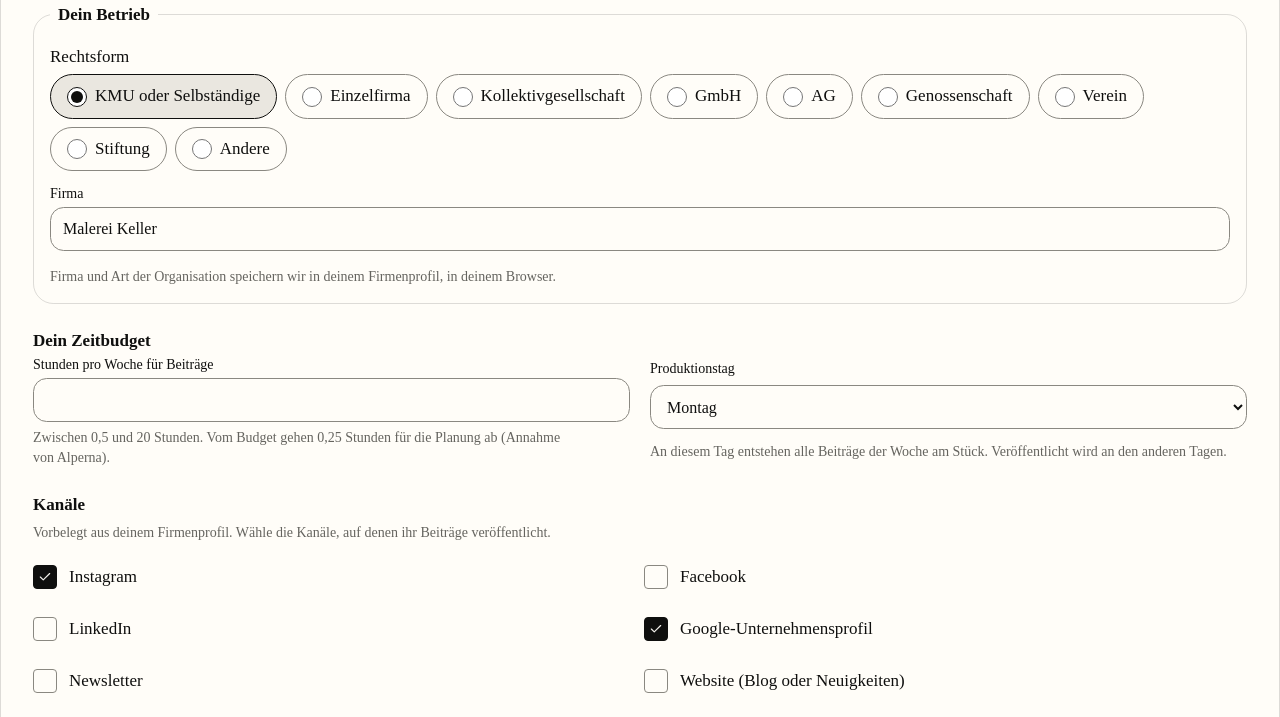
it: posting-plan: Werkzeug im Browser › verlangt mindestens einen Kanal
This screenshot has width=1280, height=717.
(page scrolled)
In the number field labelled "Stunden pro Woche für Beiträge": (332, 400) [33,378,630,422], type "4"
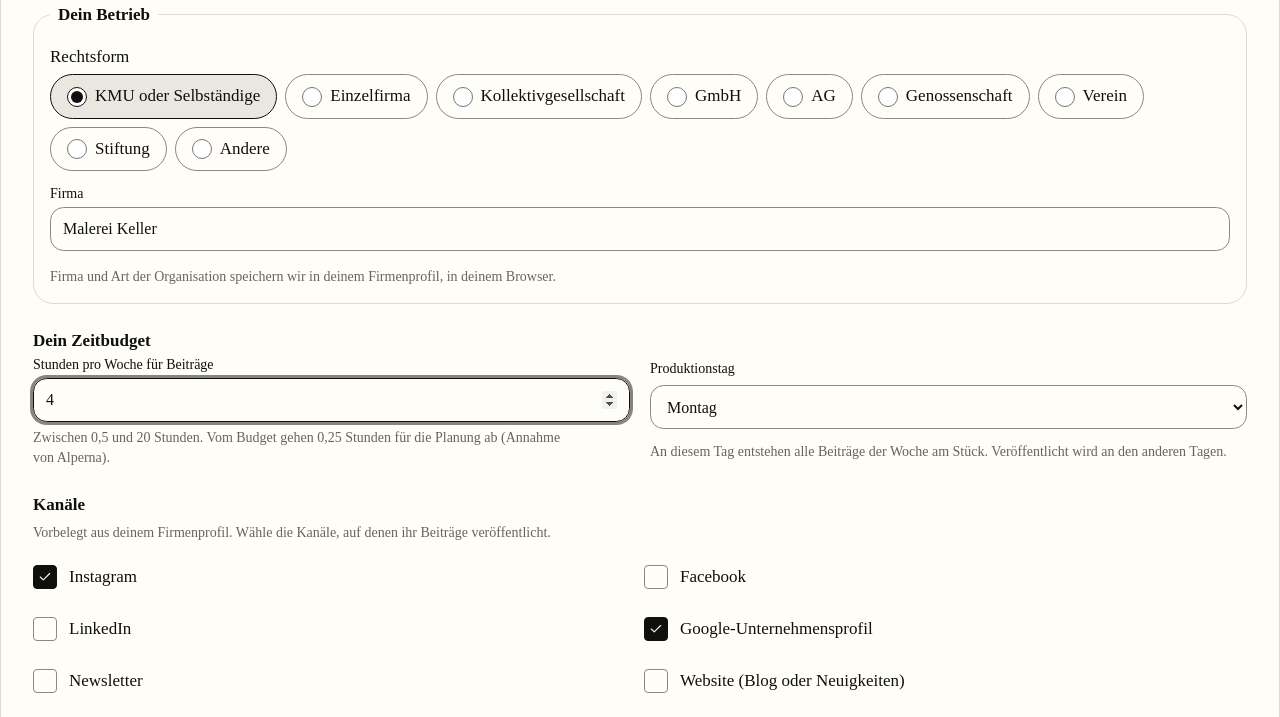
Click the checkbox named "Instagram": (45, 577) [33,565,57,589]
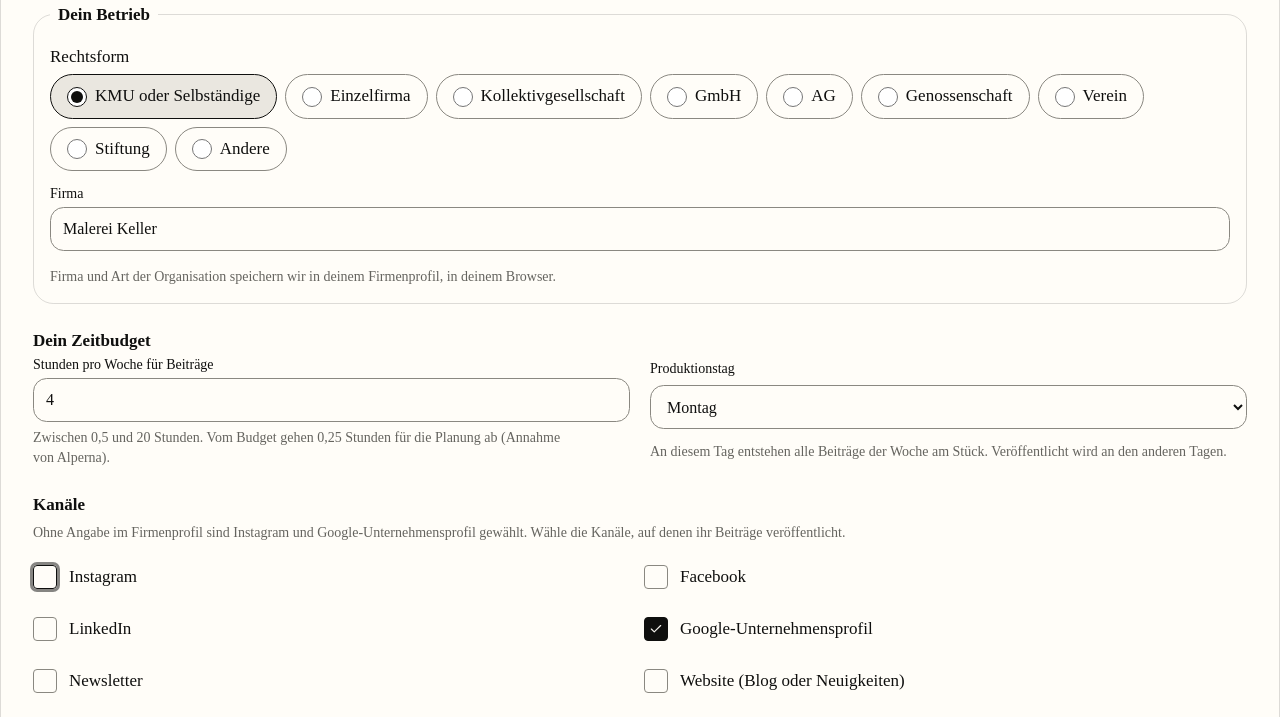
Click the checkbox named "Google-Unternehmensprofil": (656, 629) [644,617,668,641]
(page scrolled)
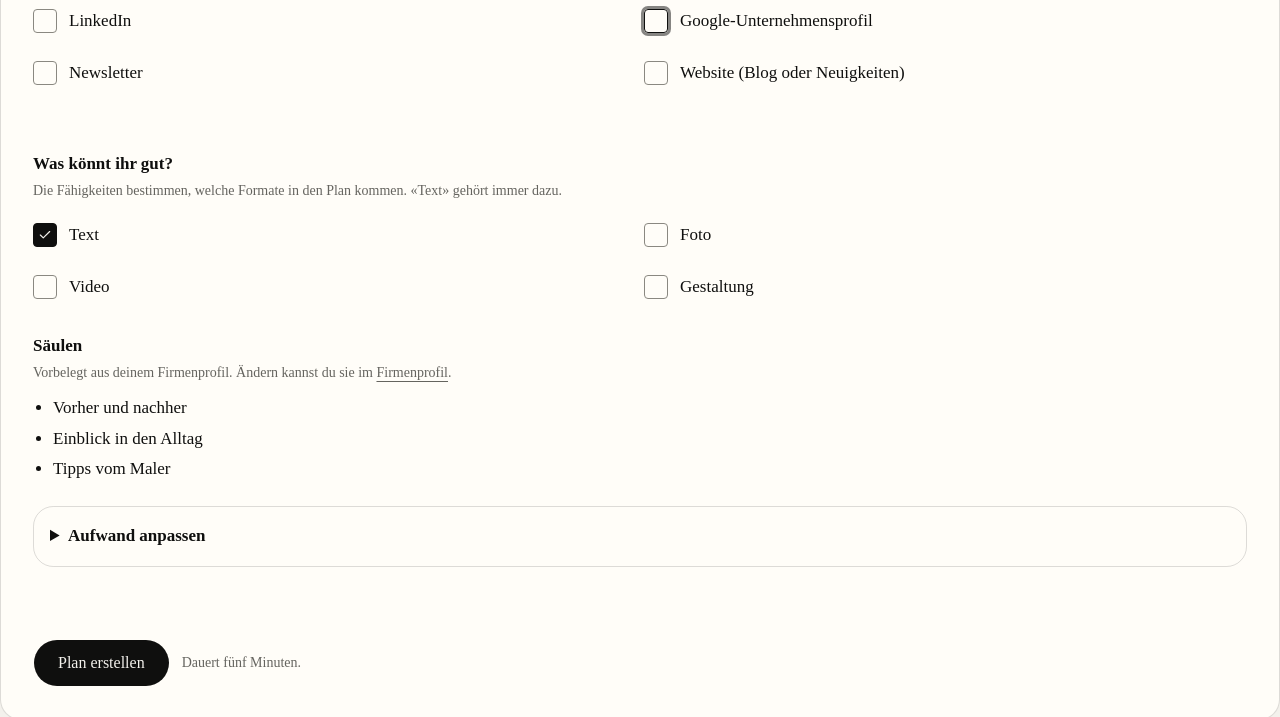
Click the button "Plan erstellen": (101, 663) [33,639,170,687]
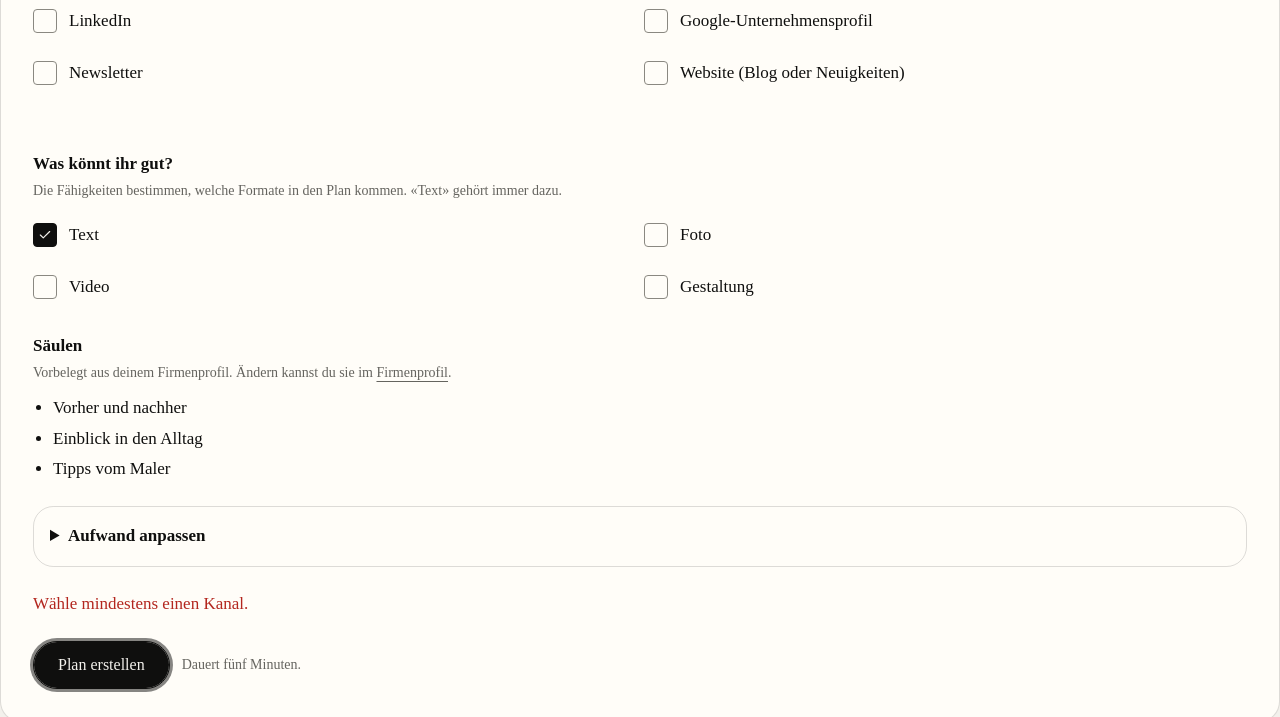
Expected: the text "Wähle mindestens einen Kanal." is shown, [33,594,248,613]
